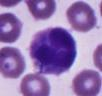E: (29, 26, 77, 76)
